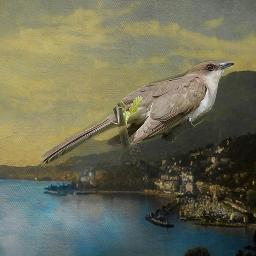Cuckoo: (38, 59, 234, 164)
